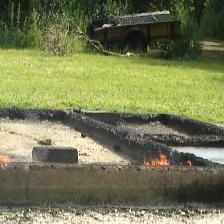fire: (147, 151, 169, 167), (0, 151, 12, 169), (184, 157, 194, 168)
